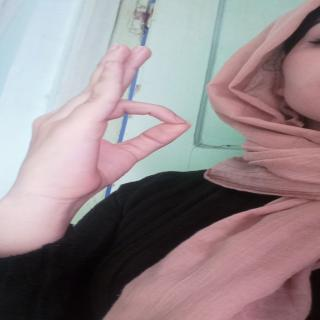Space: (9, 37, 198, 195)
